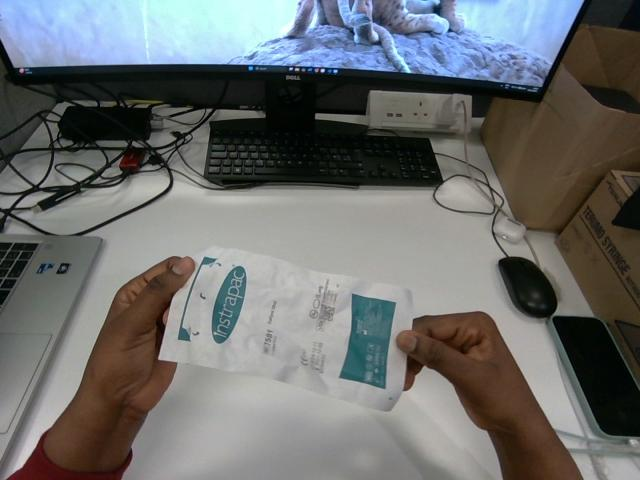gallipot: (160, 247, 412, 410)
